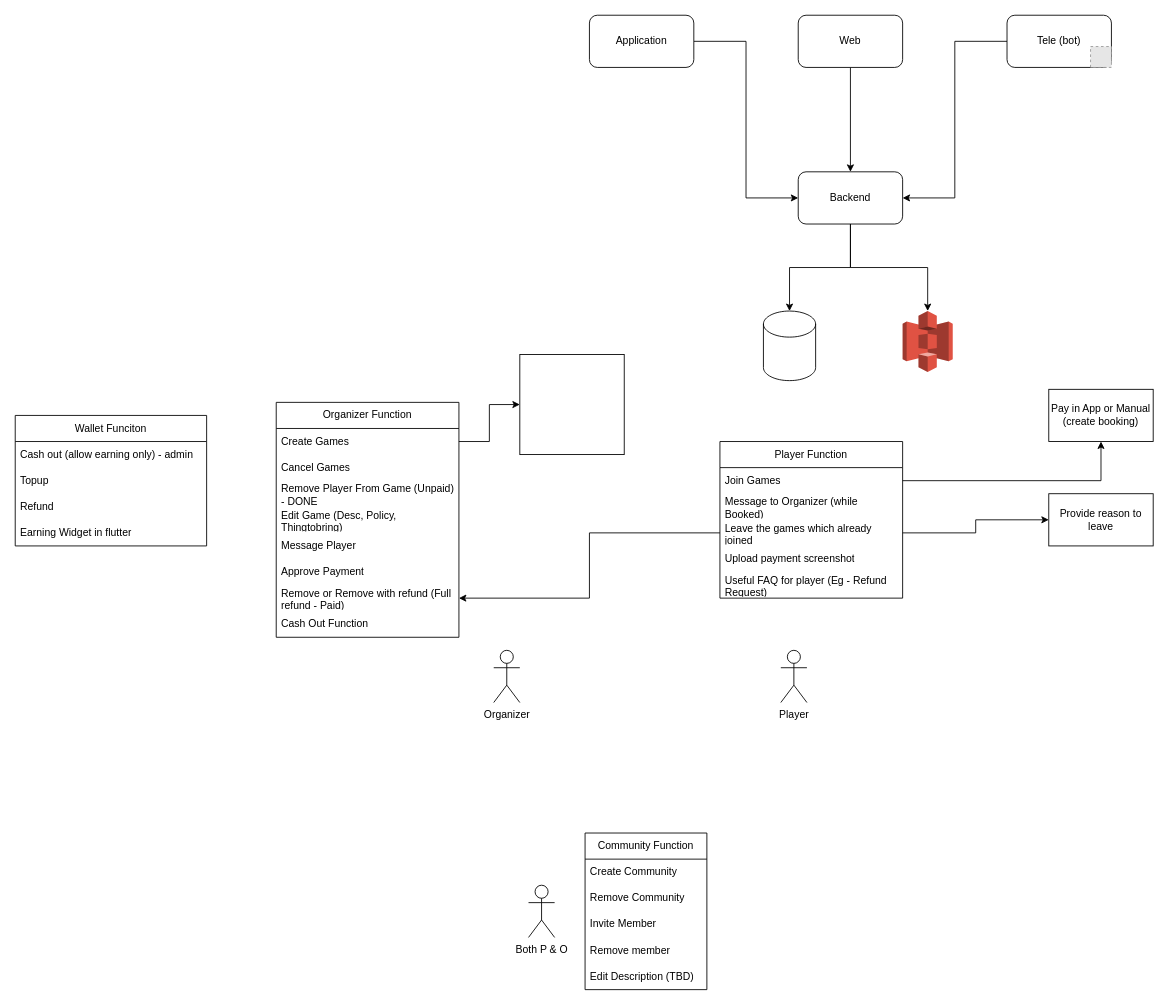
This 1168x1005 diagram has some shape labels left out. Grey dashed boxes stand in for pictures. The shapes that lost their labels are listed below. From the top down, each one's centre as x and y in pixels, then its label:
At point (789, 345): "Super DB".
At point (927, 341): "S3".
At point (571, 404): "If manual payment, add paynow number verify the number first when add paynow".
